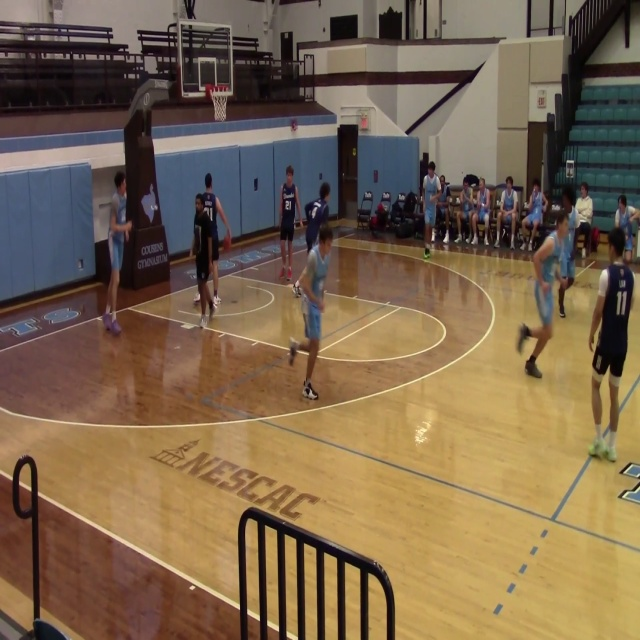Basketball: (290, 119, 298, 131)
